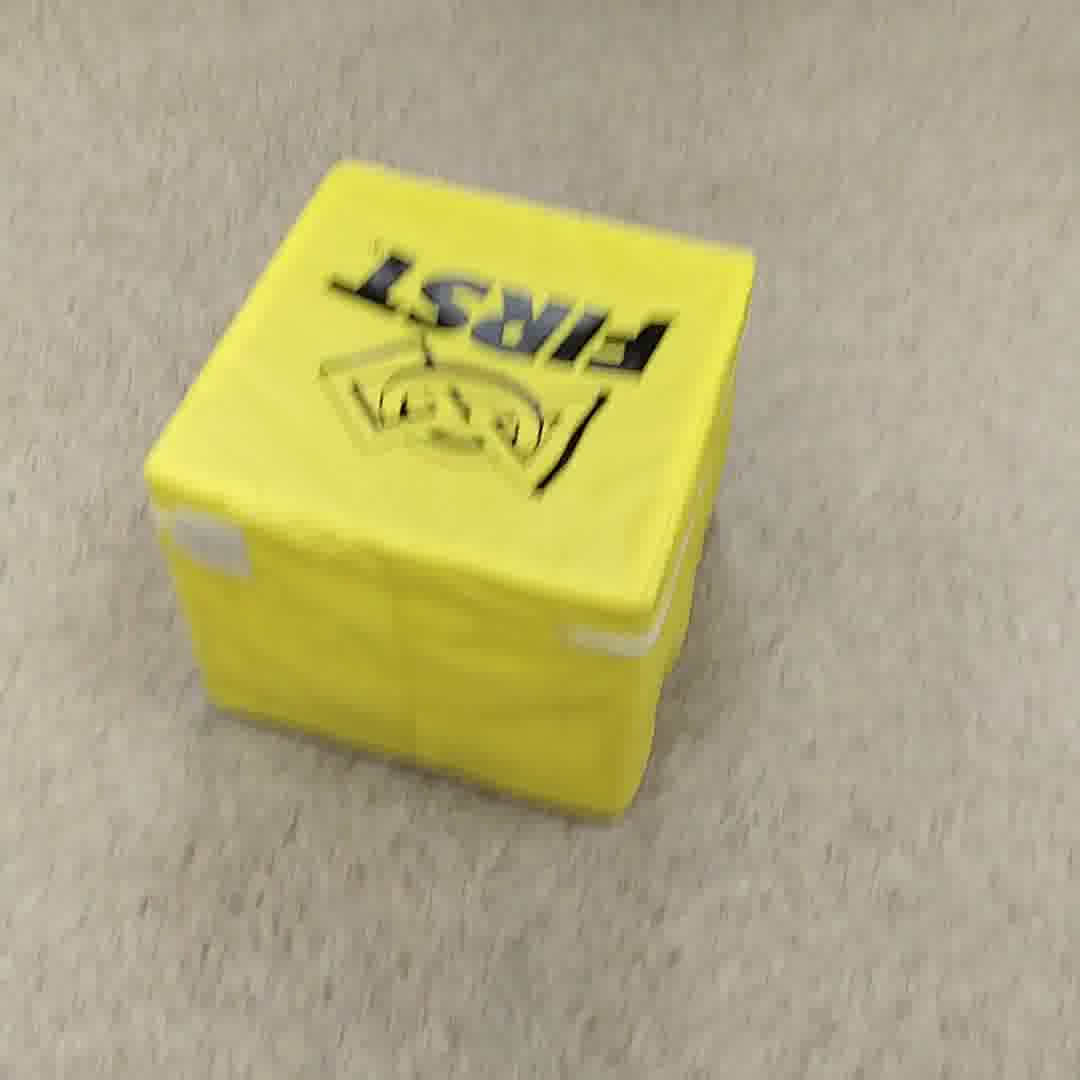box: (139, 144, 764, 857)
